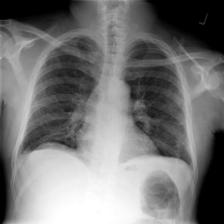normal: (13, 29, 196, 172)
